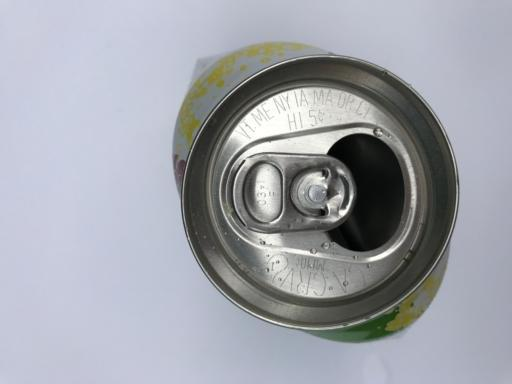kaleng: (173, 44, 459, 342)
